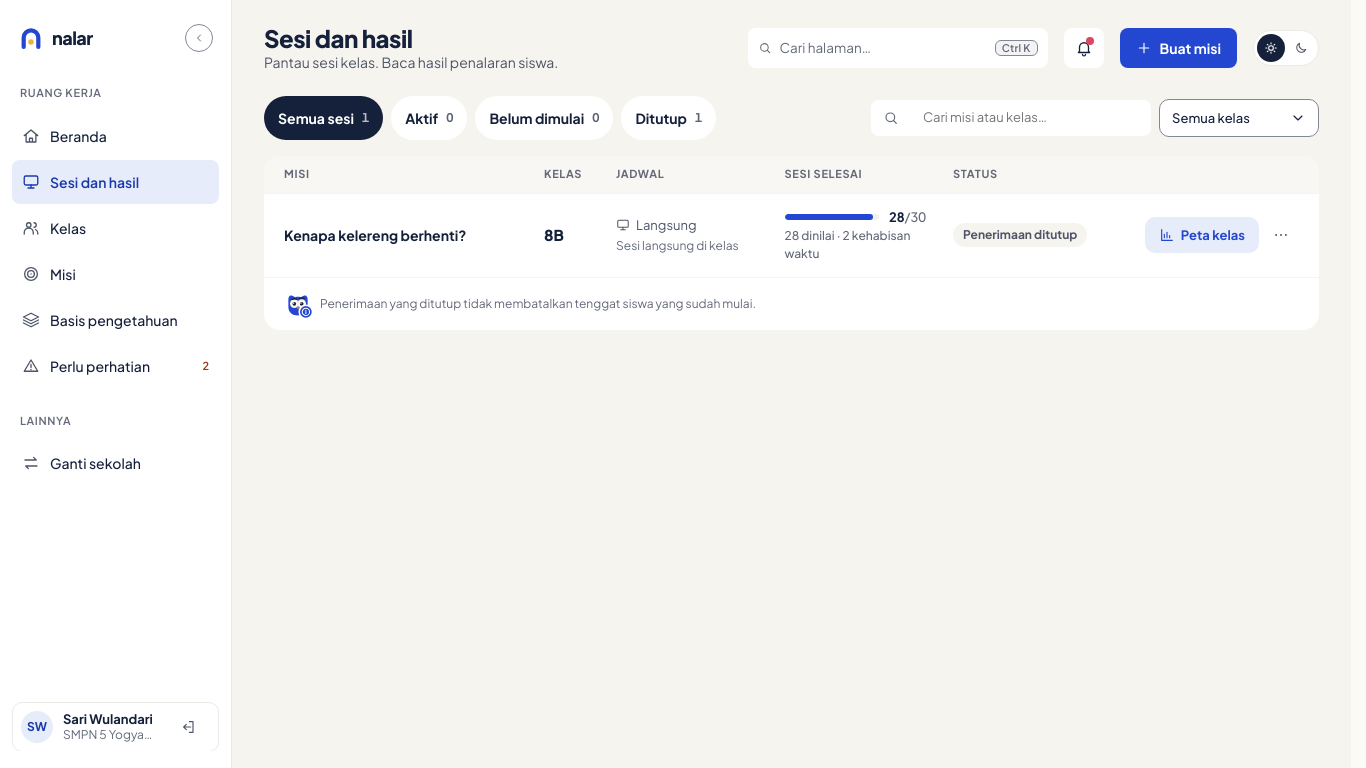
Test: signed-in teacher pages › offers no change once students have started
Click the button named "Aksi lain" at (1281, 235), box [1263,213,1299,257]
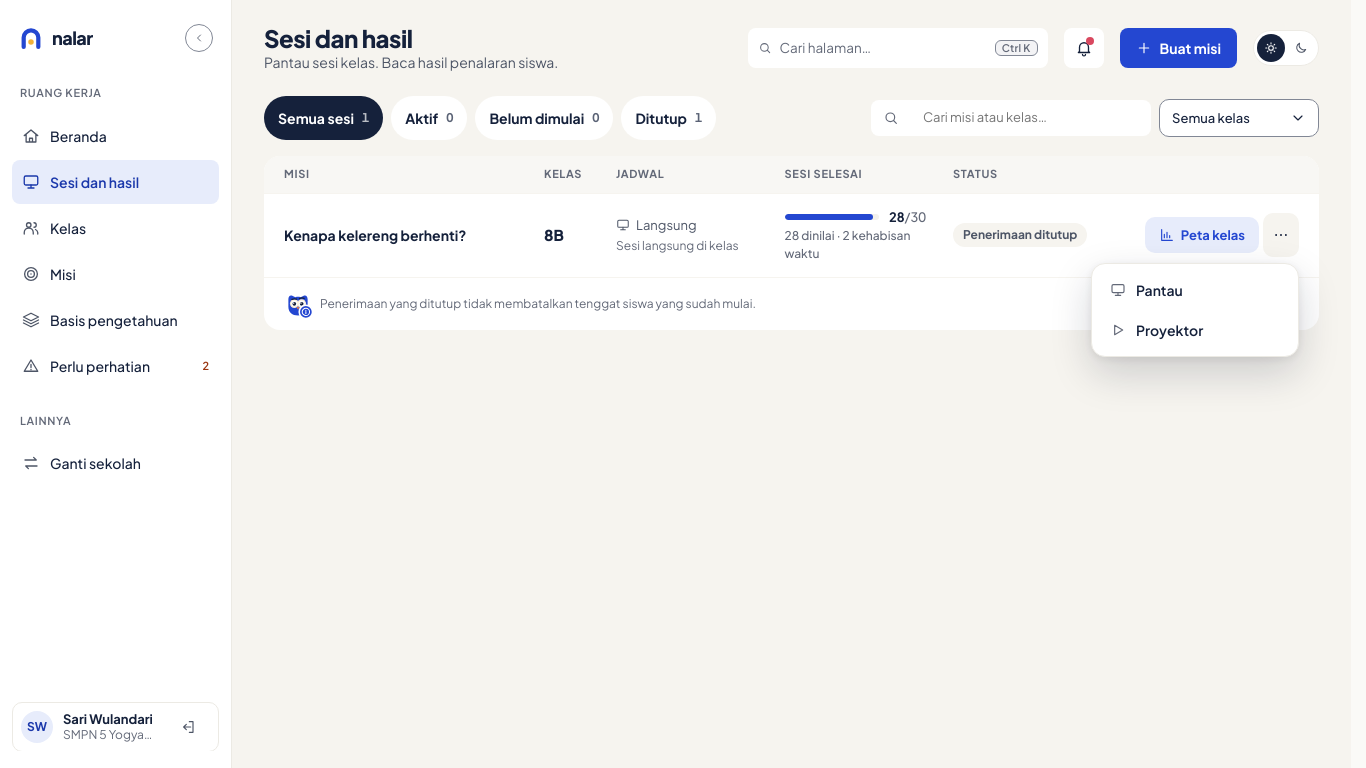
Now the menu item "Proyektor" is shown, box [1110,321,1203,339]
